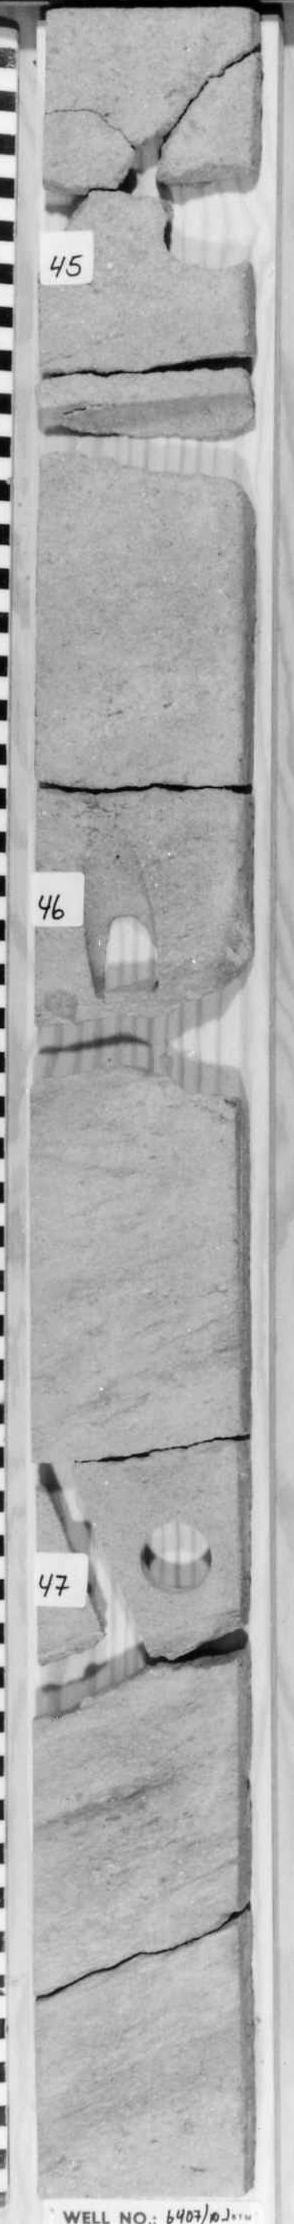hplug: (155, 155, 256, 282), (134, 1511, 217, 1598)
scal: (43, 389, 249, 495)
vplug: (33, 1461, 153, 1720), (75, 831, 170, 1008)
